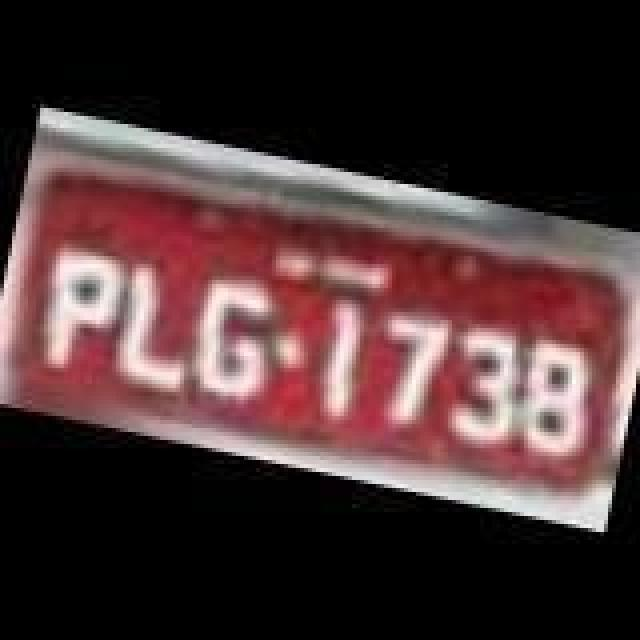1: (302, 290, 378, 430)
3: (440, 316, 536, 452)
7: (360, 304, 464, 440)
8: (506, 328, 606, 464)
G: (188, 272, 292, 416)
L: (106, 258, 214, 406)
P: (28, 240, 132, 384)
